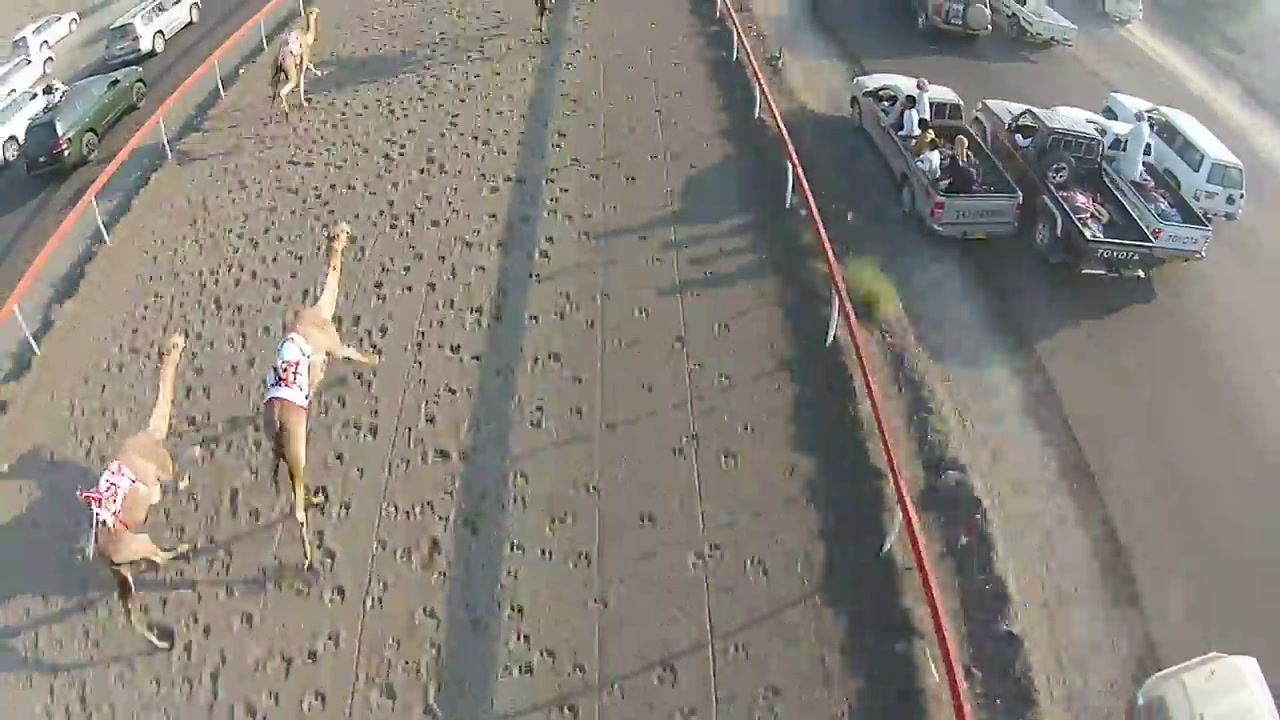animal_footprint: (400, 24, 580, 715), (137, 120, 335, 718)
